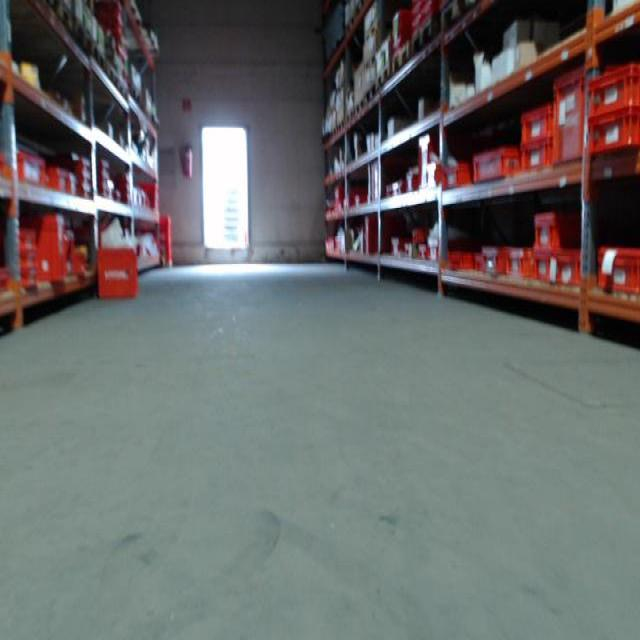pallet: (438, 0, 480, 36), (412, 13, 440, 58), (46, 0, 73, 36), (73, 20, 94, 57), (393, 40, 412, 78), (90, 43, 105, 71), (378, 67, 392, 90), (366, 84, 377, 106), (356, 0, 366, 17), (356, 98, 365, 113), (345, 110, 354, 125), (338, 118, 345, 131)
small_load_carrier: (551, 59, 590, 168), (24, 214, 68, 282), (582, 57, 638, 109), (586, 107, 637, 157), (96, 246, 140, 303), (596, 241, 640, 296), (530, 205, 585, 246), (472, 142, 518, 180), (517, 99, 557, 138), (516, 136, 557, 173), (15, 151, 47, 190), (553, 250, 583, 285), (442, 163, 473, 191), (533, 247, 558, 281), (506, 245, 530, 276), (480, 247, 507, 273), (445, 249, 471, 276), (58, 238, 73, 283), (62, 171, 82, 200), (50, 166, 67, 198), (15, 268, 40, 289), (15, 227, 34, 249), (70, 255, 85, 281), (73, 182, 94, 199), (18, 248, 36, 266), (75, 167, 95, 182), (75, 151, 91, 168)
